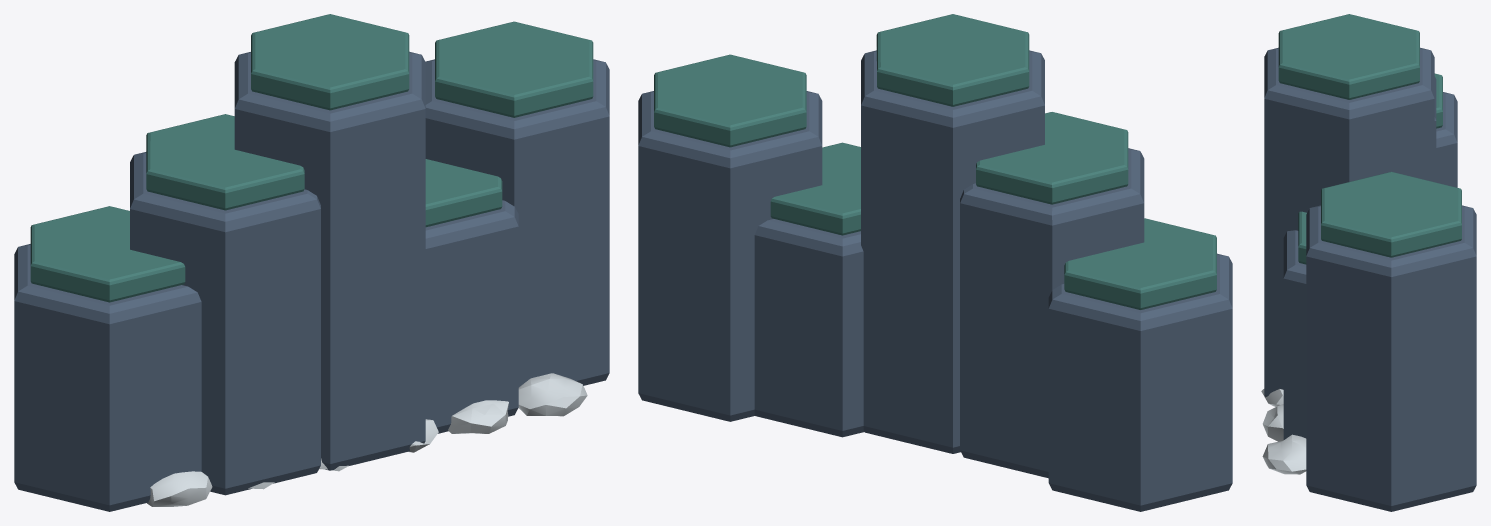
The model's file is moonsteel-convergence-basalt-jungle-ridge-71e49f88__18187.glb.
The picture shows the model from 3 angles, left to right: view 1: azimuth 30°, elevation 25°; view 2: azimuth 150°, elevation 25°; view 3: azimuth 270°, elevation 25°; orthographic projection. The views are drawn at different scales.
Parts seen in each view (by area): view 1: basalt-jungle-ridge; view 2: basalt-jungle-ridge; view 3: basalt-jungle-ridge.
Boxes of the visible parts, bbox=[...] form: basalt-jungle-ridge: bbox=[14, 14, 609, 511]; basalt-jungle-ridge: bbox=[638, 14, 1232, 511]; basalt-jungle-ridge: bbox=[1261, 14, 1476, 511].
Bounding box in the file's own units: 4.2 × 2.51 × 1.45.
